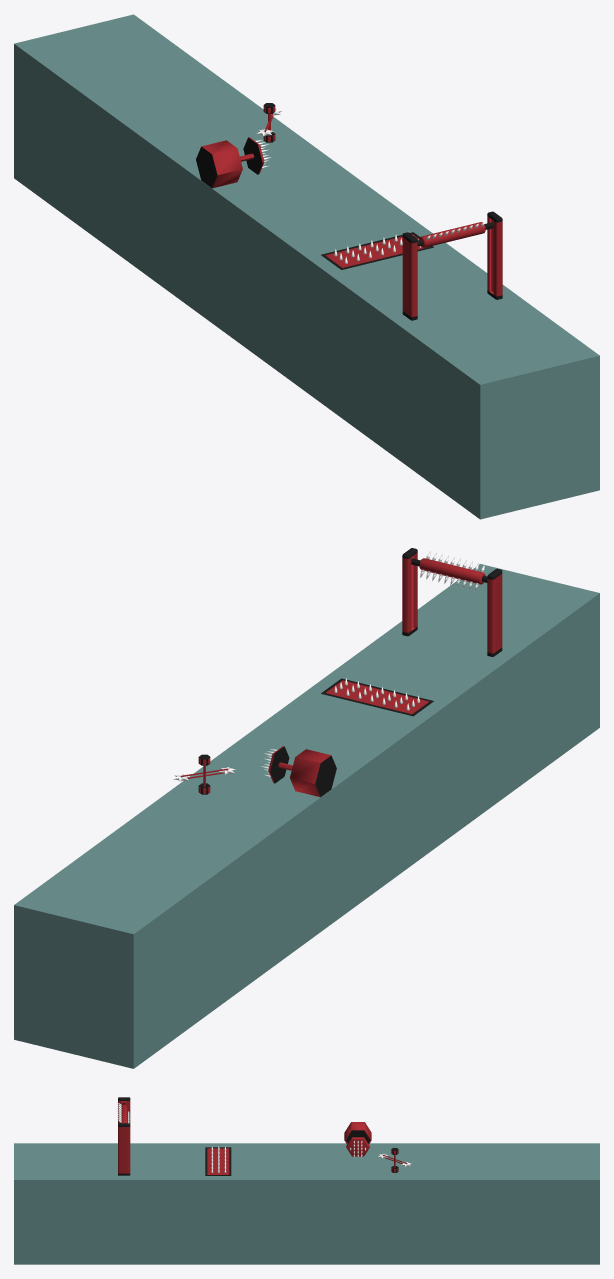
The model's file is Models.fbx.
The picture shows the model from 3 angles, top to bottom: view 1: azimuth 30°, elevation 25°; view 2: azimuth 150°, elevation 25°; view 3: azimuth 270°, elevation 25°; orthographic projection. The views are drawn at different scales.
Visible parts, largest first — view 1: Parkur, Cylinder.002, Plane, Cube, Cube.001, Cylinder, Cylinder.vur; view 2: Parkur, Plane, Cylinder.002, Cylinder, Cube, Cube.001; view 3: Parkur, Plane, Cube.001, Cylinder.002, Cylinder.vur.
Boxes of the visible parts, x1,y1,x2,y2 form: Parkur: [14, 14, 599, 519]; Cylinder.002: [196, 140, 242, 188]; Plane: [321, 232, 433, 269]; Cube: [402, 232, 417, 320]; Cube.001: [487, 211, 502, 299]; Cylinder: [417, 222, 493, 247]; Cylinder.vur: [240, 137, 271, 174]; Parkur: [14, 564, 599, 1068]; Plane: [321, 678, 433, 716]; Cylinder.002: [290, 749, 336, 797]; Cylinder: [411, 551, 487, 591]; Cube: [487, 568, 502, 656]; Cube.001: [402, 548, 417, 636]; Parkur: [14, 1143, 599, 1264]; Plane: [205, 1147, 231, 1175]; Cube.001: [118, 1123, 130, 1175]; Cylinder.002: [344, 1122, 371, 1144]; Cylinder.vur: [346, 1137, 369, 1157].
Size of the model in its own units: 398 by 685 by 2681.
